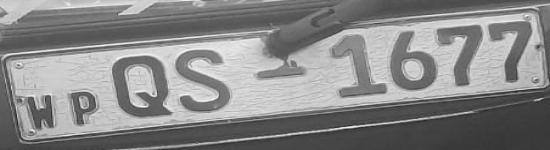-: (251, 64, 310, 82)
1: (328, 32, 386, 99)
6: (385, 27, 439, 92), (386, 27, 438, 93)
7: (485, 15, 537, 87), (432, 21, 483, 89)
P: (67, 86, 102, 130)
Q: (106, 52, 173, 118)
S: (172, 47, 241, 116)
W: (23, 92, 57, 132)
